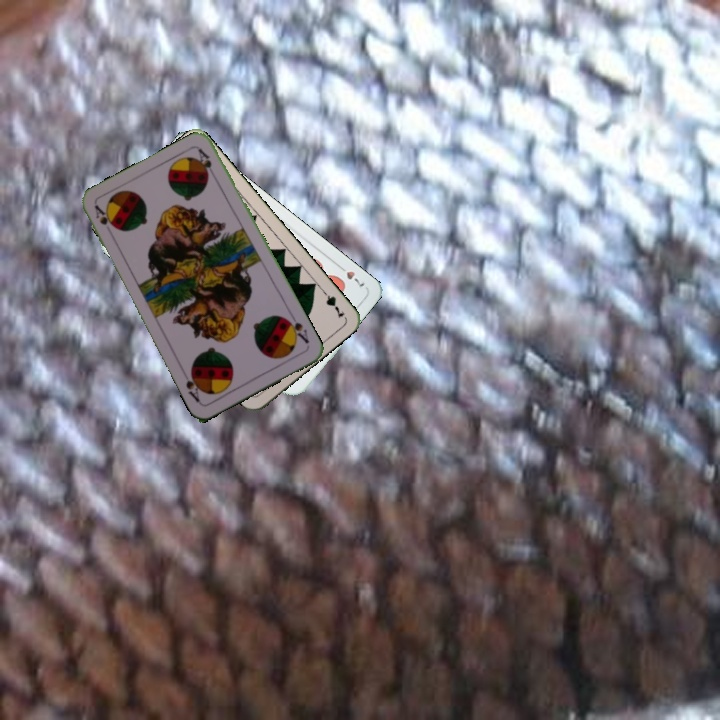G7: (317, 285, 347, 321)
H7: (334, 261, 368, 292)
SA: (281, 310, 312, 346), (90, 201, 117, 231)
